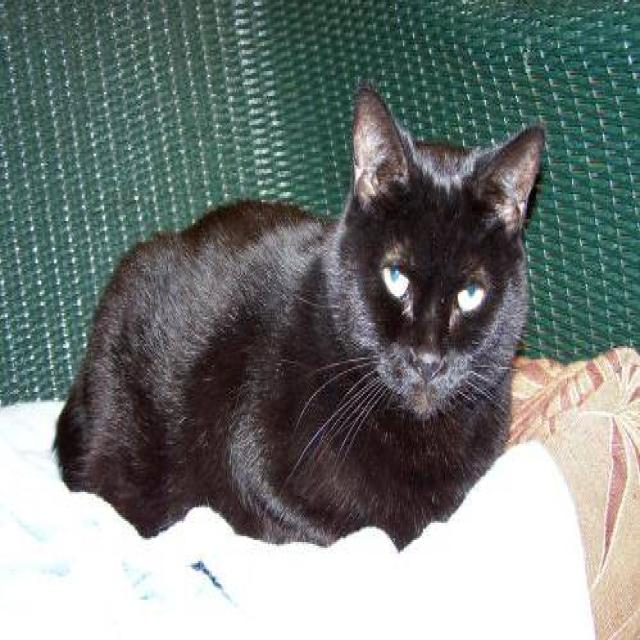cat: (51, 82, 545, 550)
